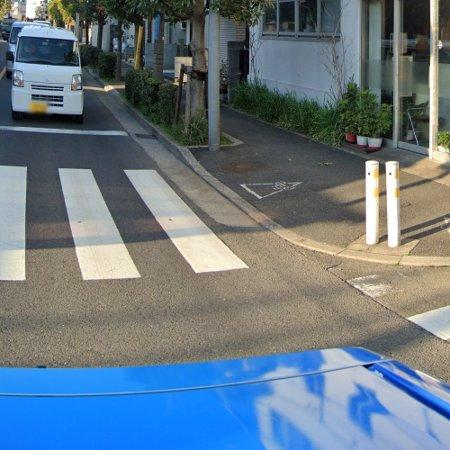crosswalks: (0, 164, 252, 284)
